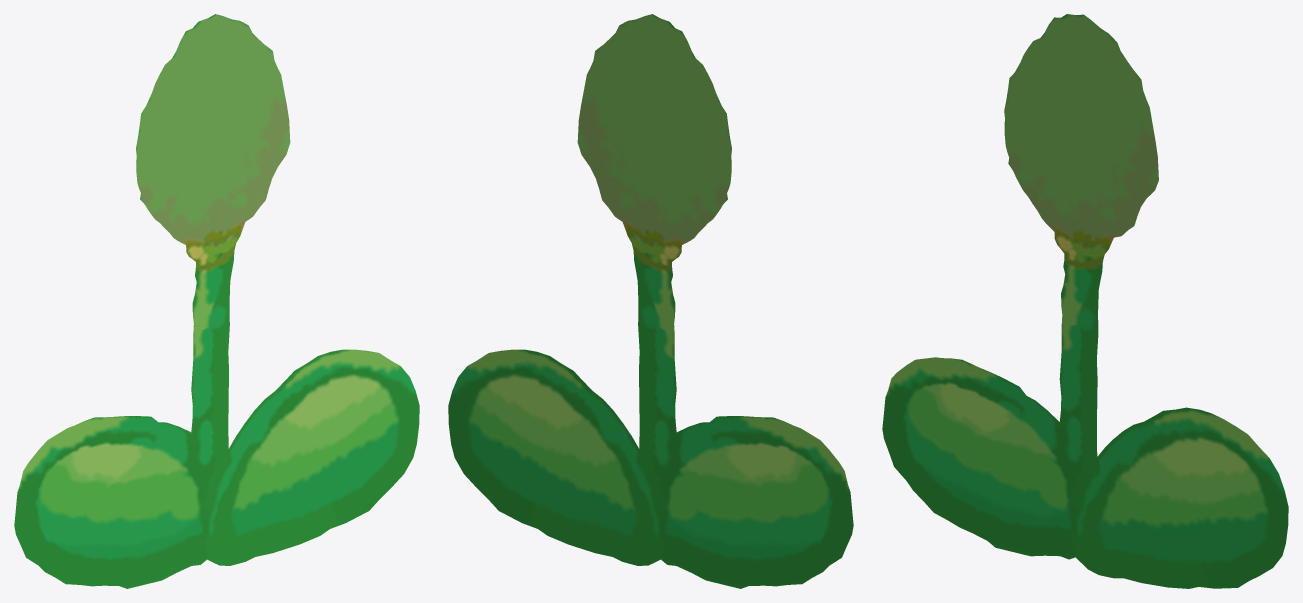
File: FlowerBubs.obj
3 renders of one model, left to right at view 1: azimuth 30°, elevation 25°; view 2: azimuth 150°, elevation 25°; view 3: azimuth 330°, elevation 25°, orthographic.
Parts seen in each view (by area): view 1: 平面; view 2: 平面; view 3: 平面.
Boxes of the visible parts, <box> form: 平面: <box>14,14,419,588</box>; 平面: <box>448,14,853,588</box>; 平面: <box>882,14,1288,588</box>.
Bounding box in the file's own units: 0.3708 × 0.4856 × 0.
Materials: 1 (1 with a texture image).
